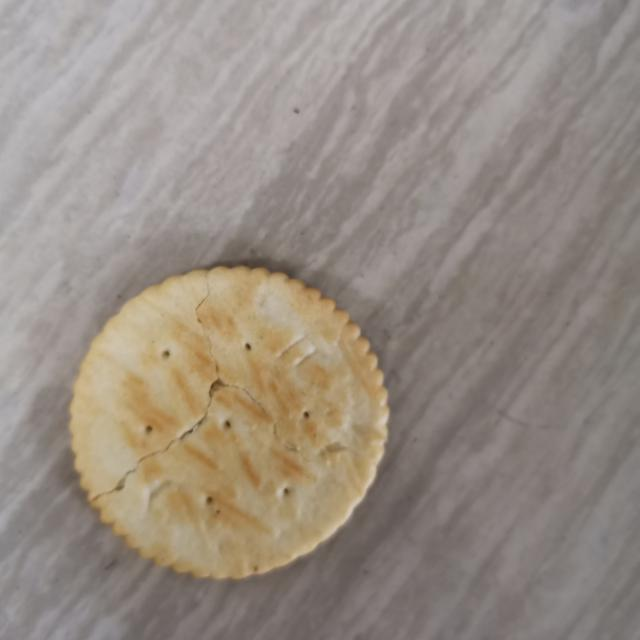Fracture: (86, 269, 371, 516)
